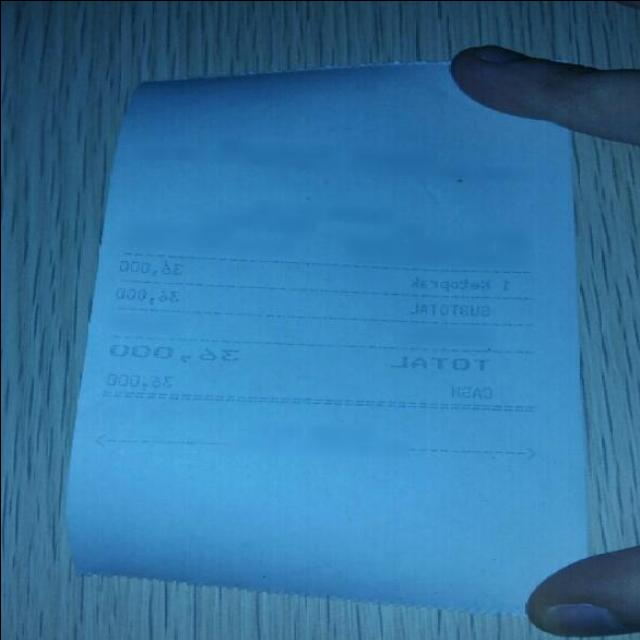kertas: (60, 32, 629, 621)
